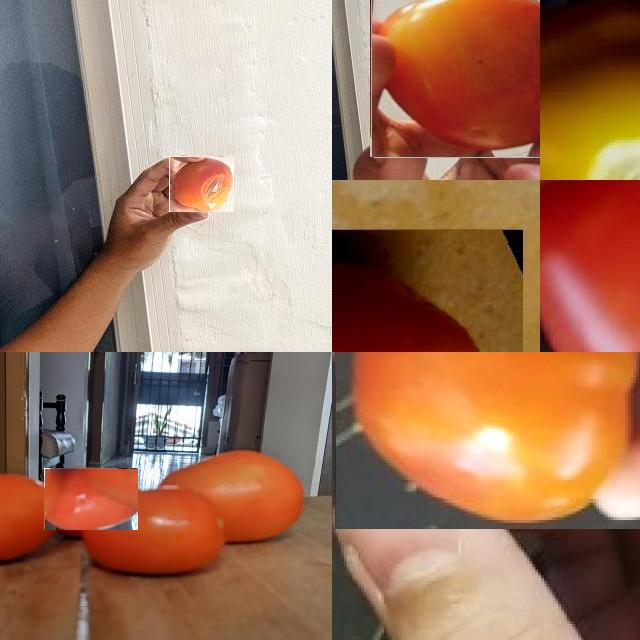Fresh Tomato: (335, 352, 640, 529), (332, 229, 523, 352), (540, 180, 640, 352), (84, 486, 228, 582), (158, 448, 304, 542), (44, 468, 138, 530), (0, 470, 59, 565)
Rotten Tomato: (370, 0, 540, 157), (540, 0, 640, 180), (169, 156, 234, 212)
